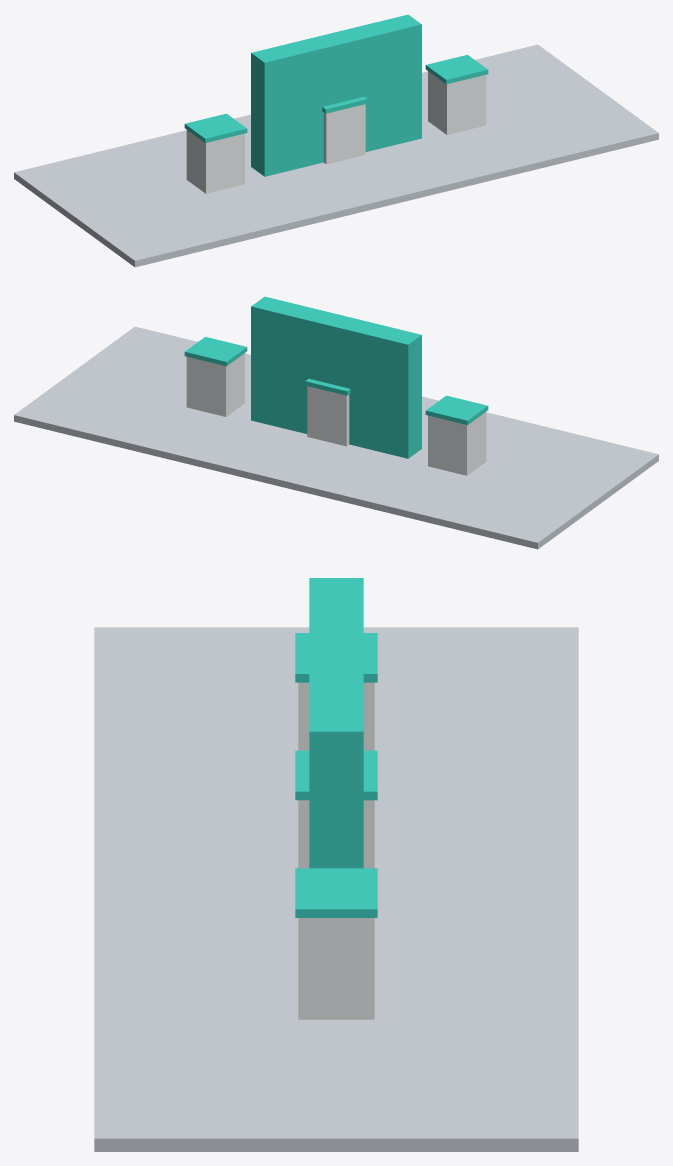
The picture shows the model from 3 angles, top to bottom: view 1: azimuth 30°, elevation 25°; view 2: azimuth 150°, elevation 25°; view 3: azimuth 270°, elevation 25°; orthographic projection. The views are drawn at different scales.
Visible parts, largest first — view 1: Exhibition Booth Concept; view 2: Exhibition Booth Concept; view 3: Exhibition Booth Concept.
Part boxes in pixels (x1=…): Exhibition Booth Concept: x1=14, y1=14, x2=658, y2=267; Exhibition Booth Concept: x1=14, y1=296, x2=658, y2=549; Exhibition Booth Concept: x1=94, y1=578, x2=578, y2=1151.
Size of the model in its own units: 10 by 2.2 by 4.
